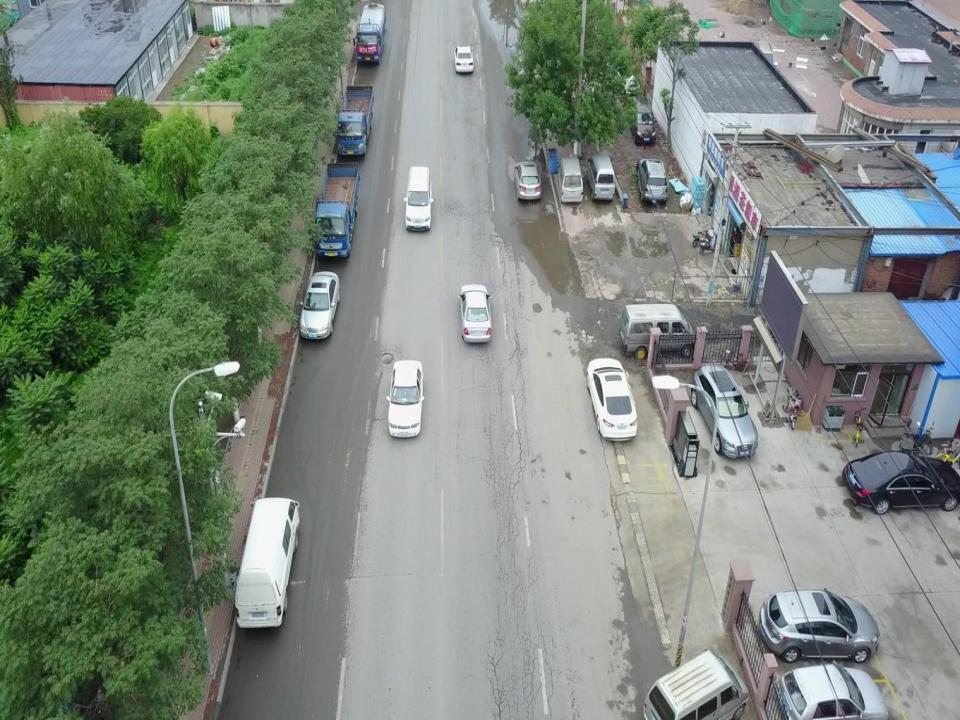car: (760, 591, 880, 660), (844, 453, 955, 512), (774, 664, 890, 720), (691, 364, 758, 460), (586, 358, 637, 440), (384, 360, 425, 437), (298, 271, 340, 342), (401, 165, 434, 231), (458, 282, 493, 344), (637, 156, 669, 202), (514, 160, 542, 200), (610, 61, 641, 95), (453, 46, 476, 74)
truck: (313, 165, 361, 260), (336, 87, 373, 159), (354, 3, 387, 68)
van: (234, 497, 297, 628), (642, 646, 749, 720), (619, 304, 699, 359), (627, 95, 656, 145), (588, 151, 616, 202), (558, 154, 584, 206)
